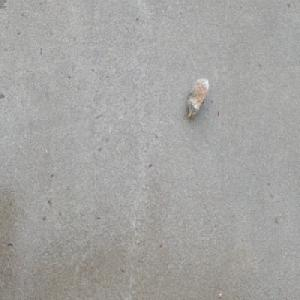Rock: (185, 76, 209, 121)
